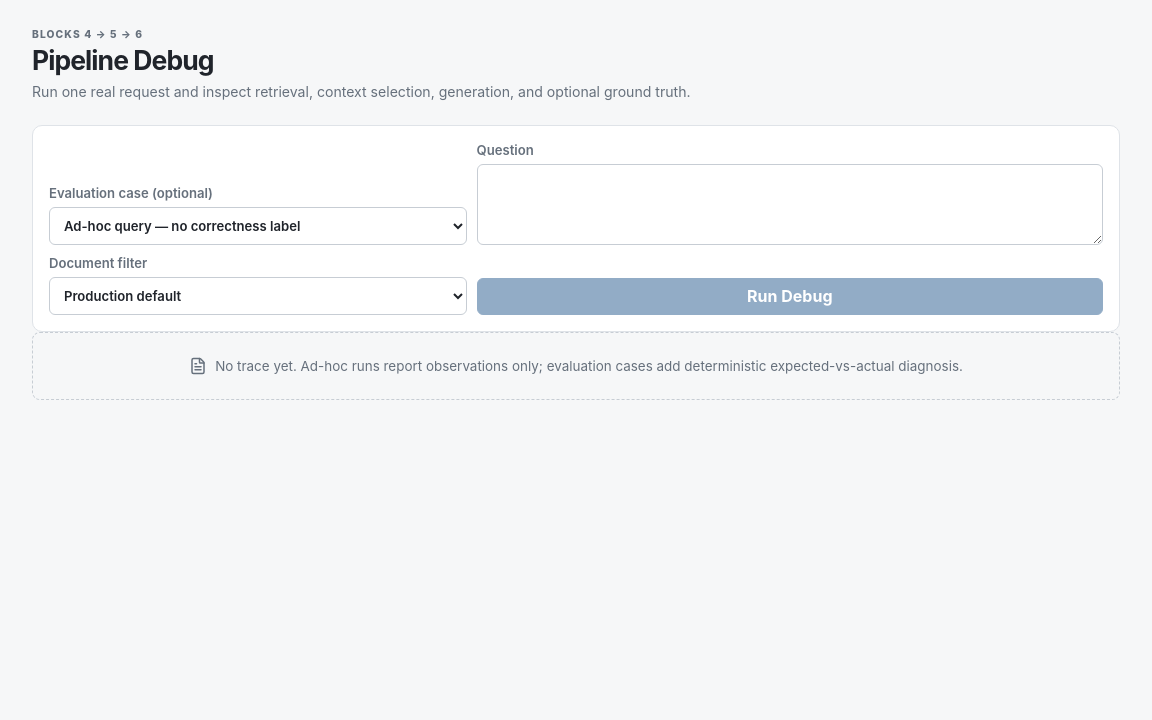
Test: DebugPage › renders all frozen pipeline stages and avoids ad-hoc correctness claims
This screenshot has width=1152, height=720.
Type "test query" into the text box labelled "Question" at x=790, y=205, box [477, 164, 1103, 245]
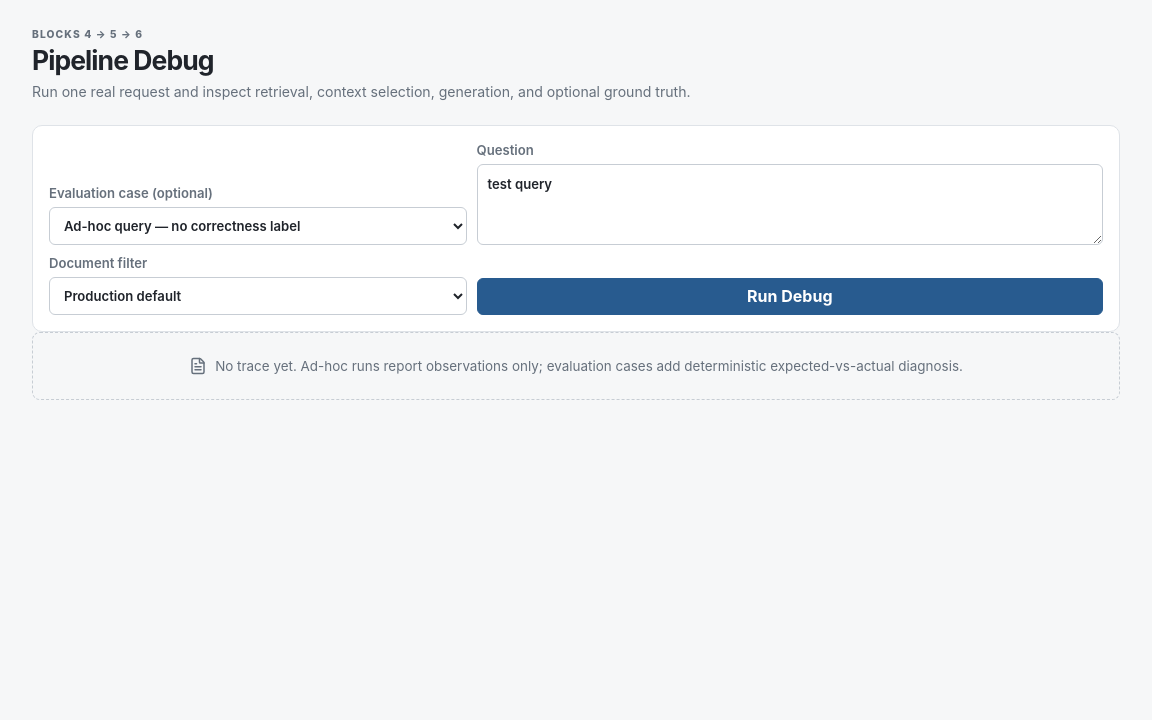
Click the button "Run Debug" at x=790, y=297, box [477, 278, 1103, 315]
(page scrolled)
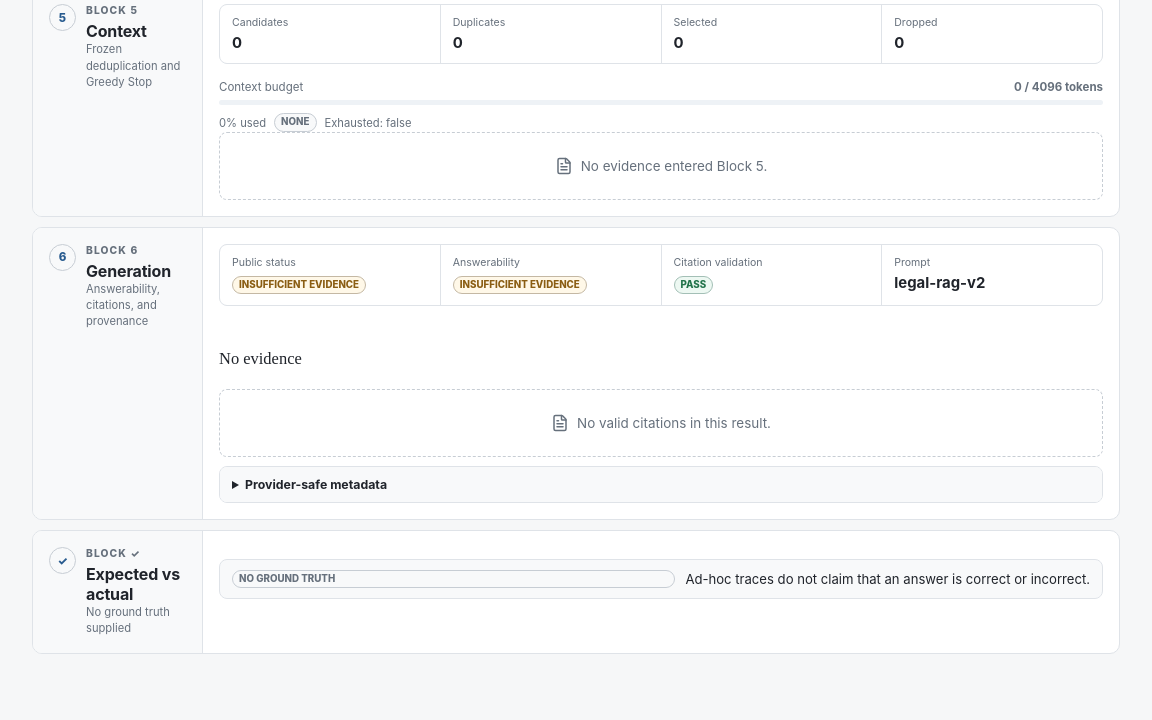
Now the heading "Context" is shown, box [86, 21, 147, 41]
Now the heading "Generation" is shown, box [86, 261, 186, 281]
Now the text "NO GROUND TRUTH" is shown, box [232, 570, 675, 588]
